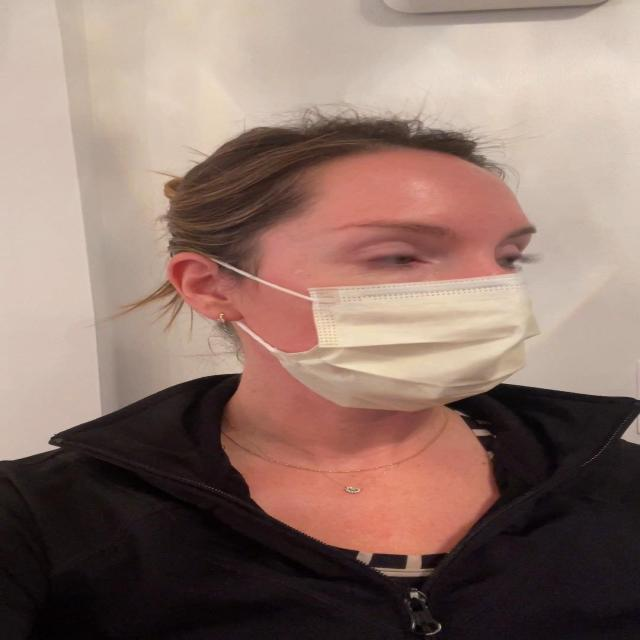no-helmet: (150, 126, 565, 435)
